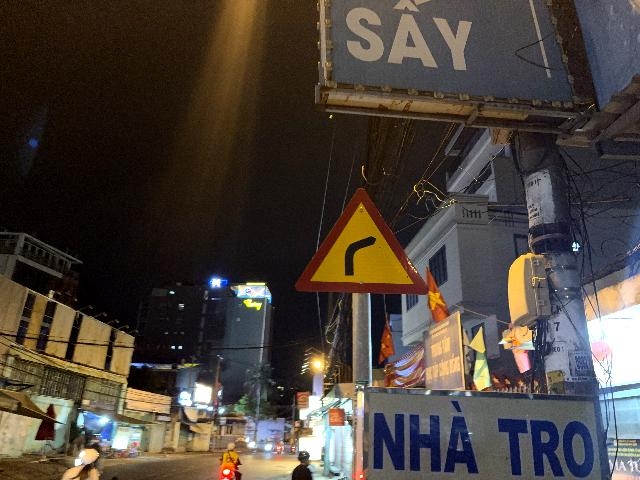cho-ngoat-nguy-hiem-ben-phai: (294, 184, 430, 293)
